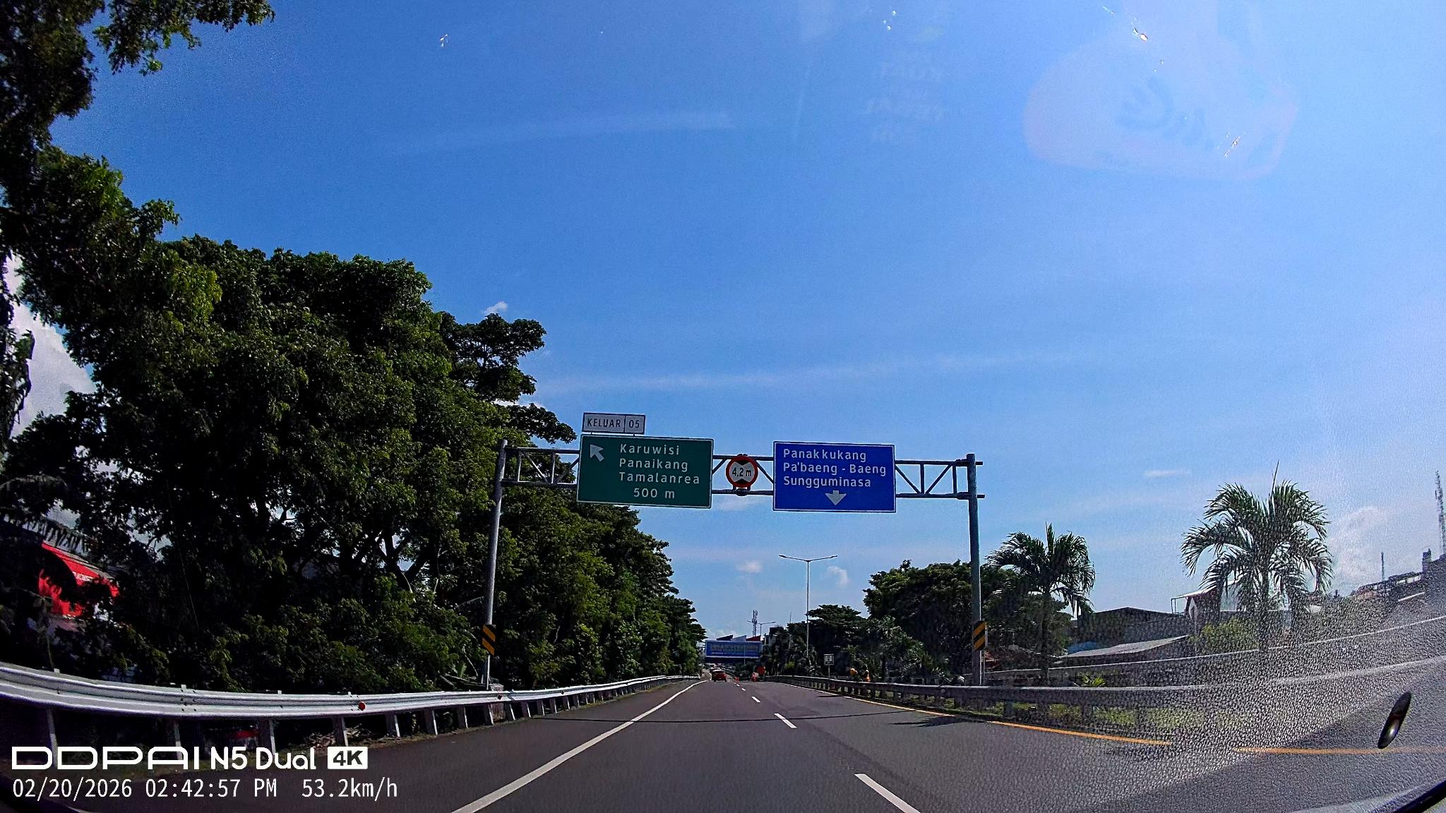rambu_teks: (576, 434, 713, 509), (772, 441, 897, 514)
